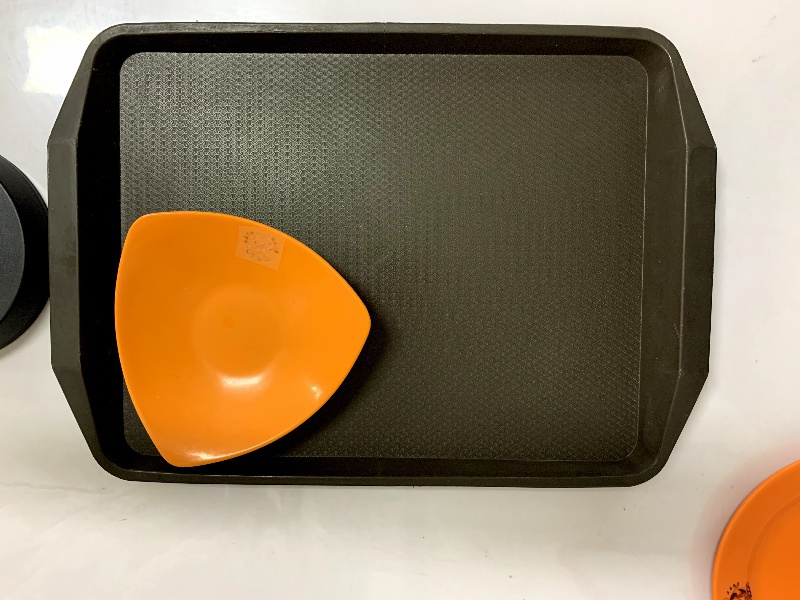dish11: (111, 207, 381, 474)
